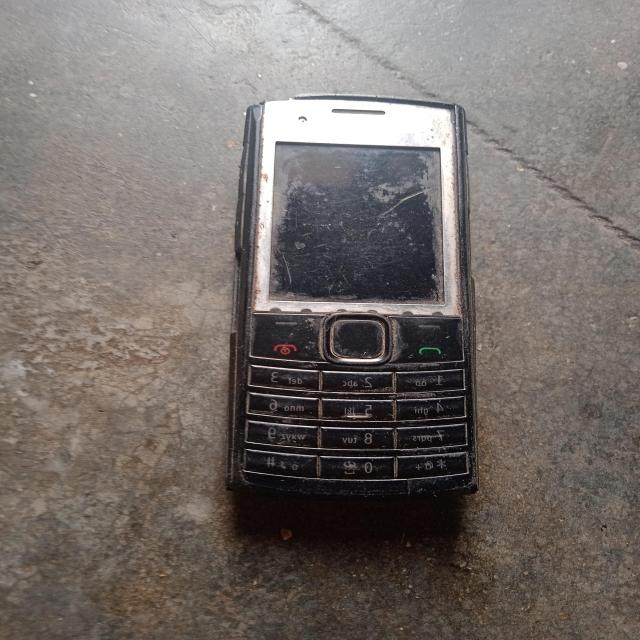mobile: (143, 53, 582, 547)
